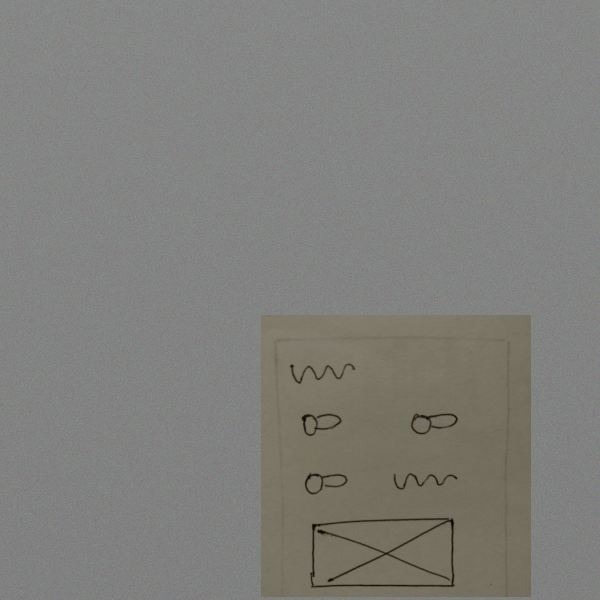image: (304, 512, 460, 591)
switch: (406, 403, 462, 442), (298, 467, 351, 498), (296, 410, 345, 438)
text: (388, 465, 462, 496), (285, 357, 358, 385)
